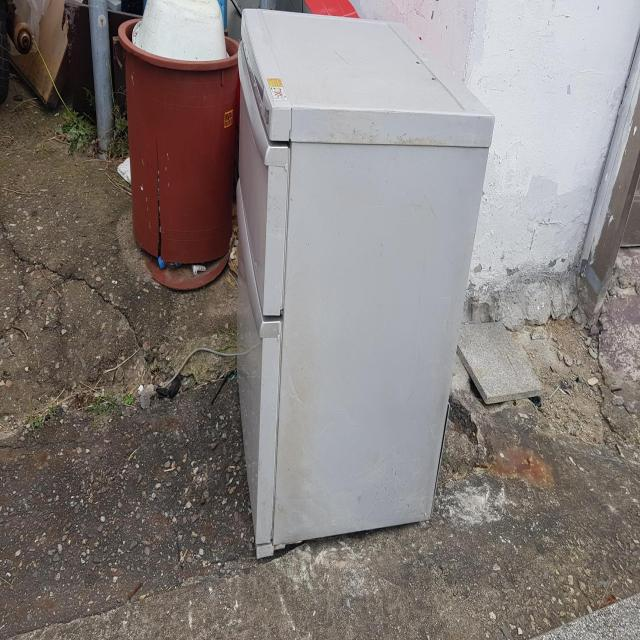refrigerator: (234, 6, 494, 572)
